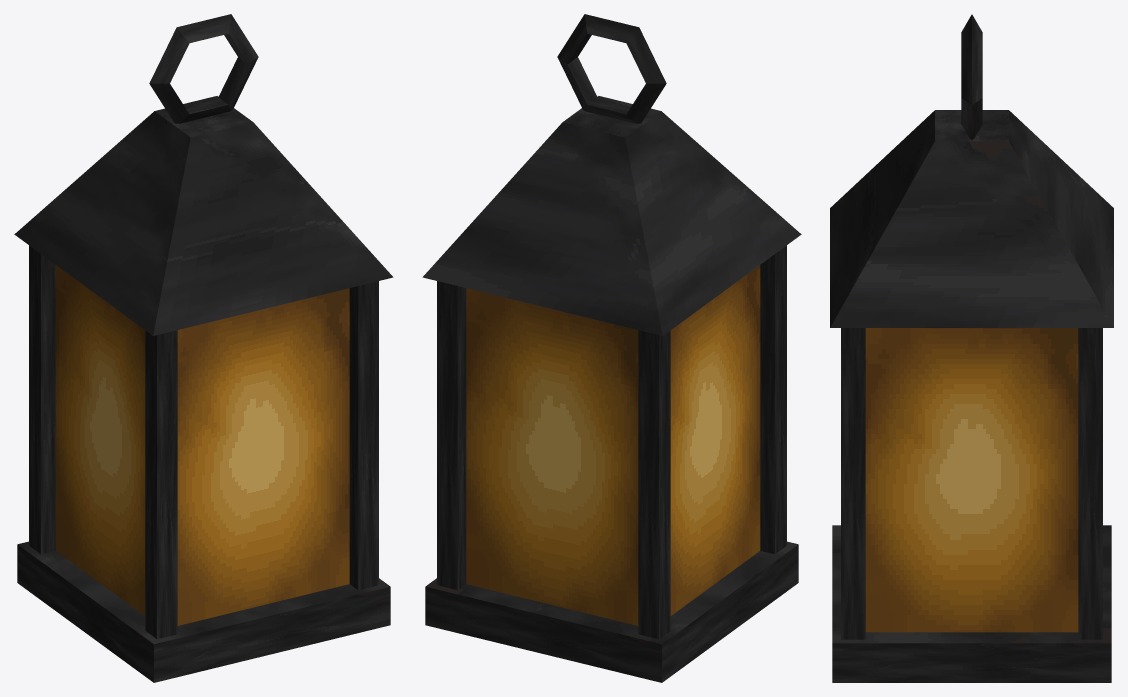
The model's file is PSXH_Lantern.glb.
3 views of the same model, side by side, from view 1: azimuth 30°, elevation 25°; view 2: azimuth 150°, elevation 25°; view 3: azimuth 270°, elevation 25° (orthographic). The views are drawn at different scales.
Visible parts, largest first — view 1: PSXH_Lantern; view 2: PSXH_Lantern; view 3: PSXH_Lantern.
Boxes of the visible parts, x1,y1,x2,y2 form: PSXH_Lantern: (14, 14, 393, 682); PSXH_Lantern: (422, 14, 801, 682); PSXH_Lantern: (830, 14, 1113, 682).
Bounding box in the file's own units: 0.1626 × 0.377 × 0.1626.
1 material, 1 textured.
